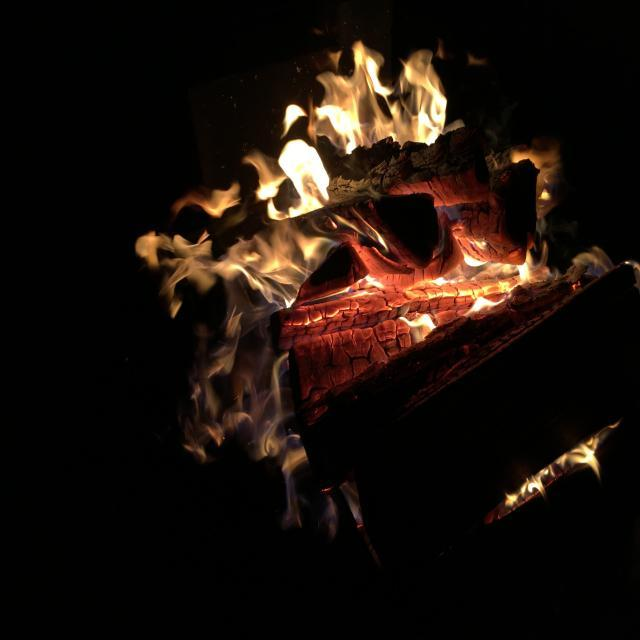Fire: (136, 38, 640, 534)
